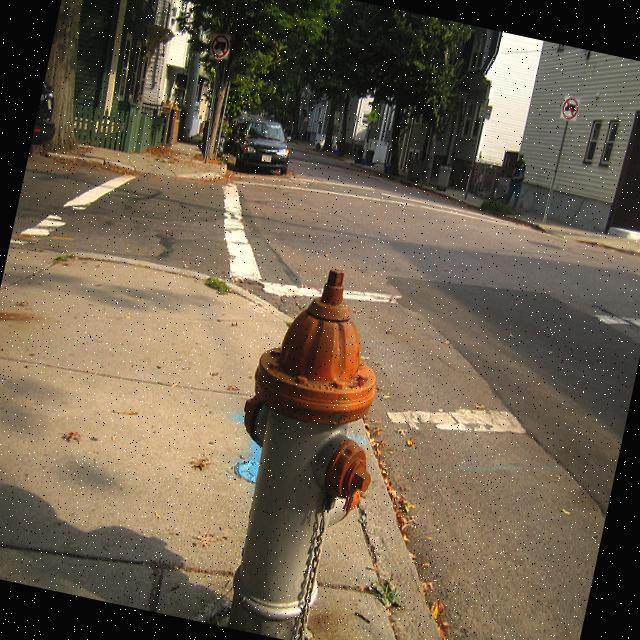fire_hydrant: (200, 253, 413, 640)
